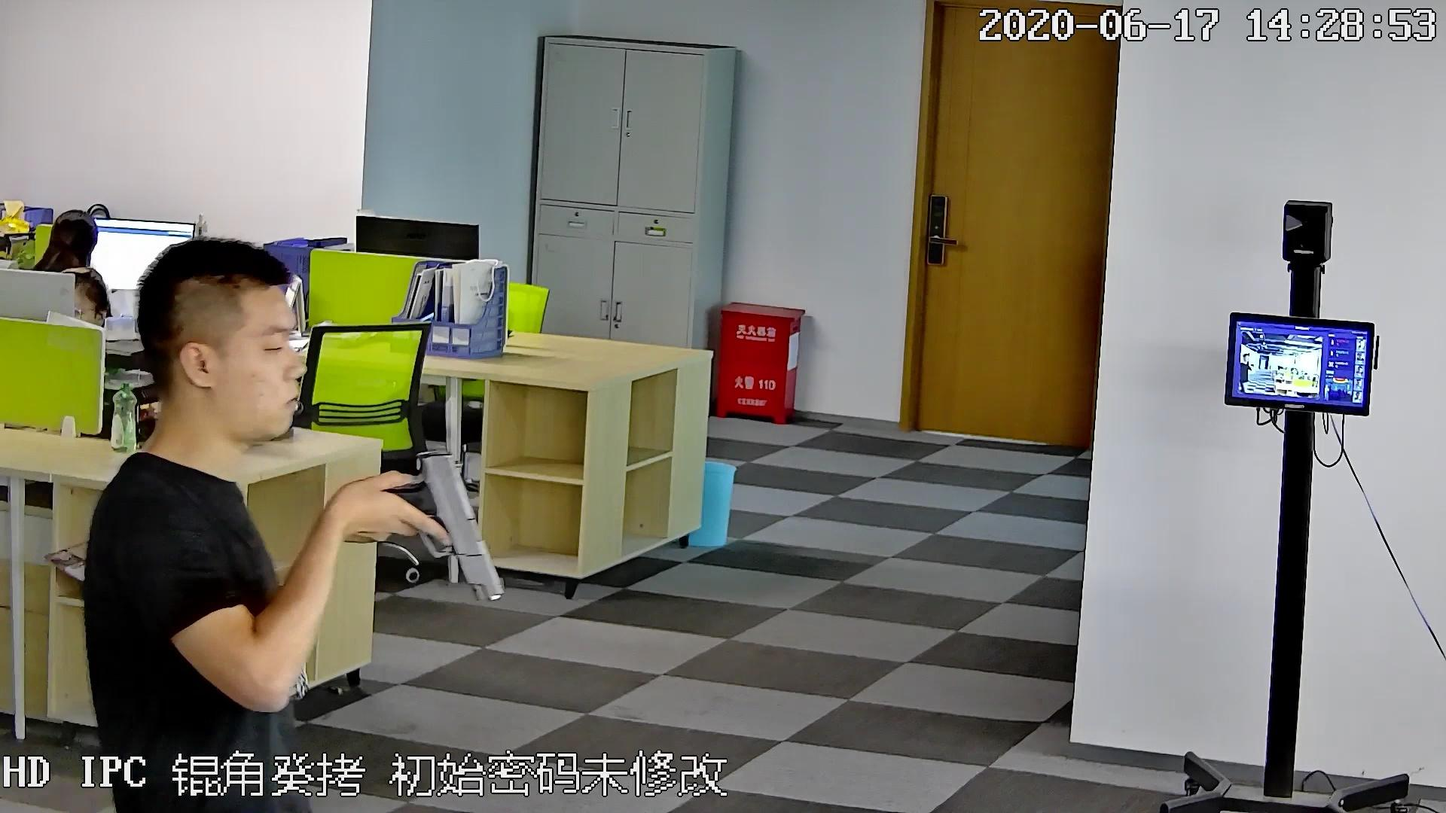gun: (351, 443, 505, 610)
